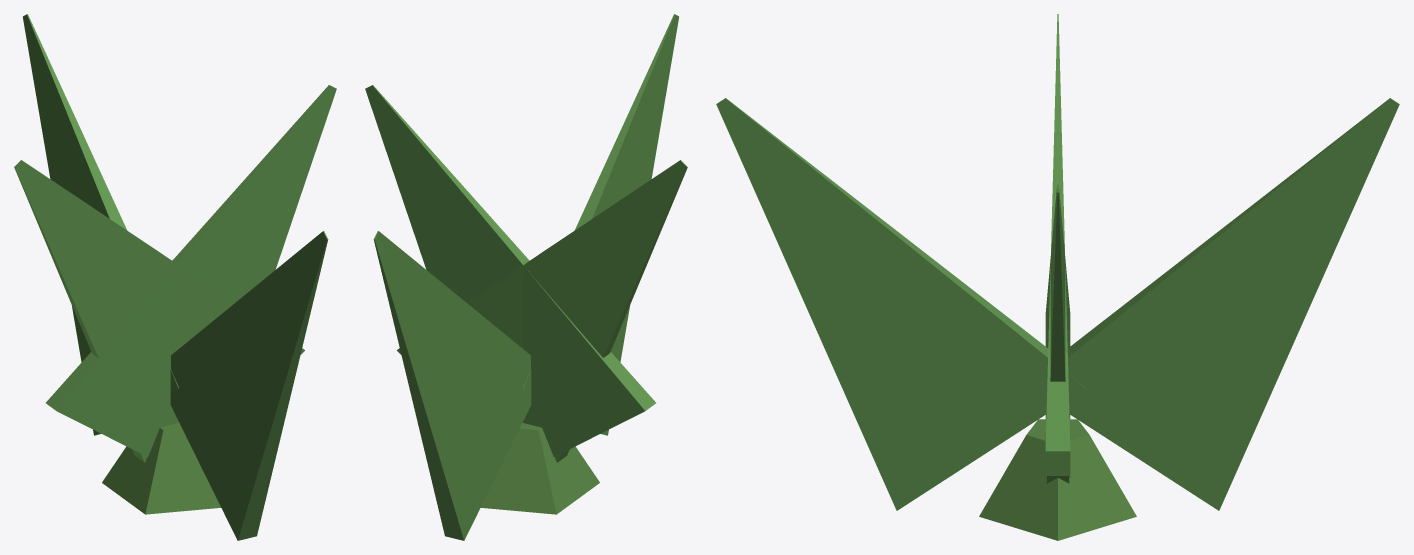
Rendered from prop_fern.glb.
3 renders of one model, left to right at view 1: azimuth 30°, elevation 25°; view 2: azimuth 150°, elevation 25°; view 3: azimuth 270°, elevation 25°, orthographic. The views are drawn at different scales.
Visible parts, largest first — view 1: prop_fern; view 2: prop_fern; view 3: prop_fern.
Part boxes in pixels (box(x1,y1,x2,y2)): prop_fern: box(14, 14, 336, 540); prop_fern: box(365, 14, 687, 540); prop_fern: box(716, 14, 1399, 540).
Bounding box in the file's own units: 0.2511 × 0.2706 × 0.4111.
